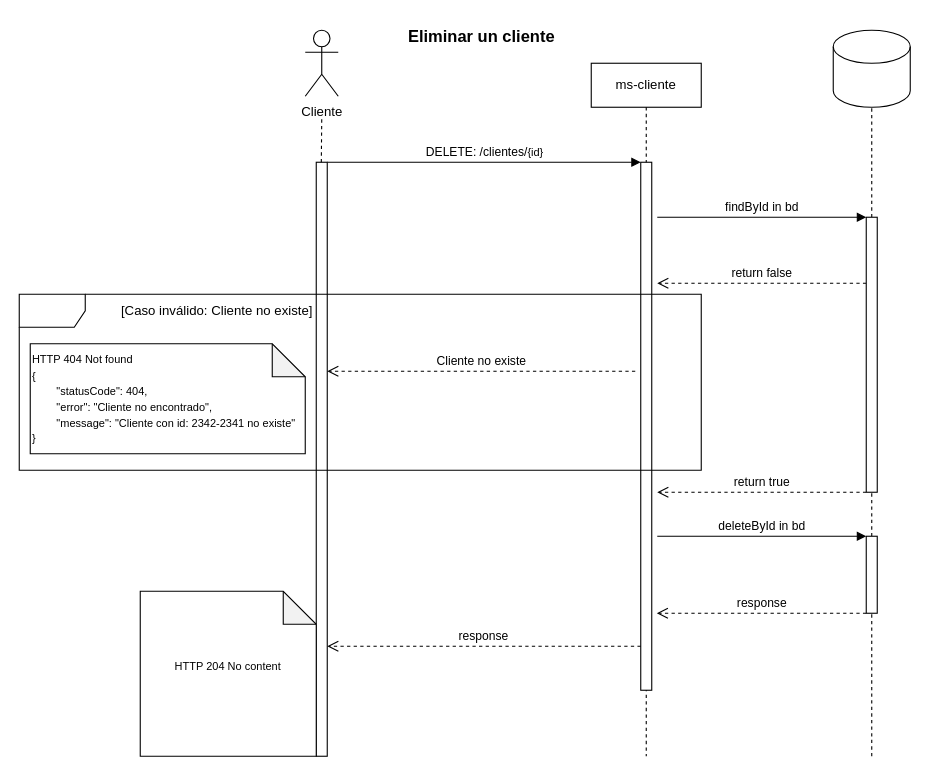
The diagram is 930 pixels wide and 777 high, and some of its shapes have lost their labels. Each missing label, with the box of its shape:
alt: (18, 293, 701, 470)
MongoDb: (832, 29, 910, 107)
